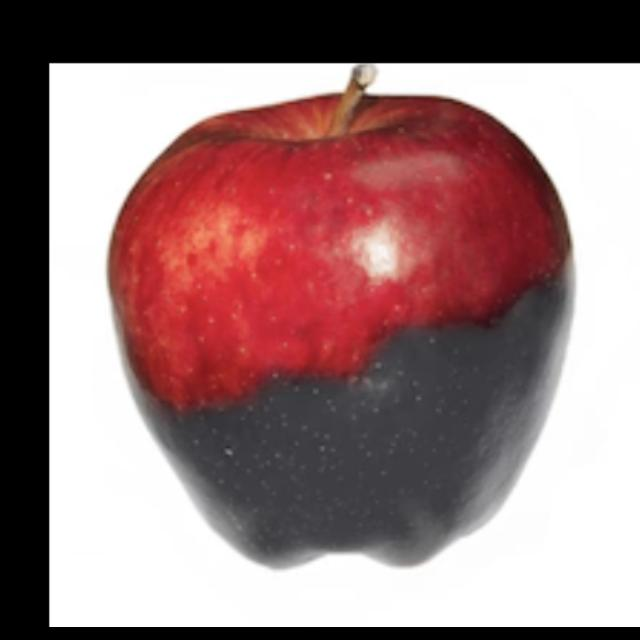Apel Tidak Segar: (104, 83, 584, 574)
